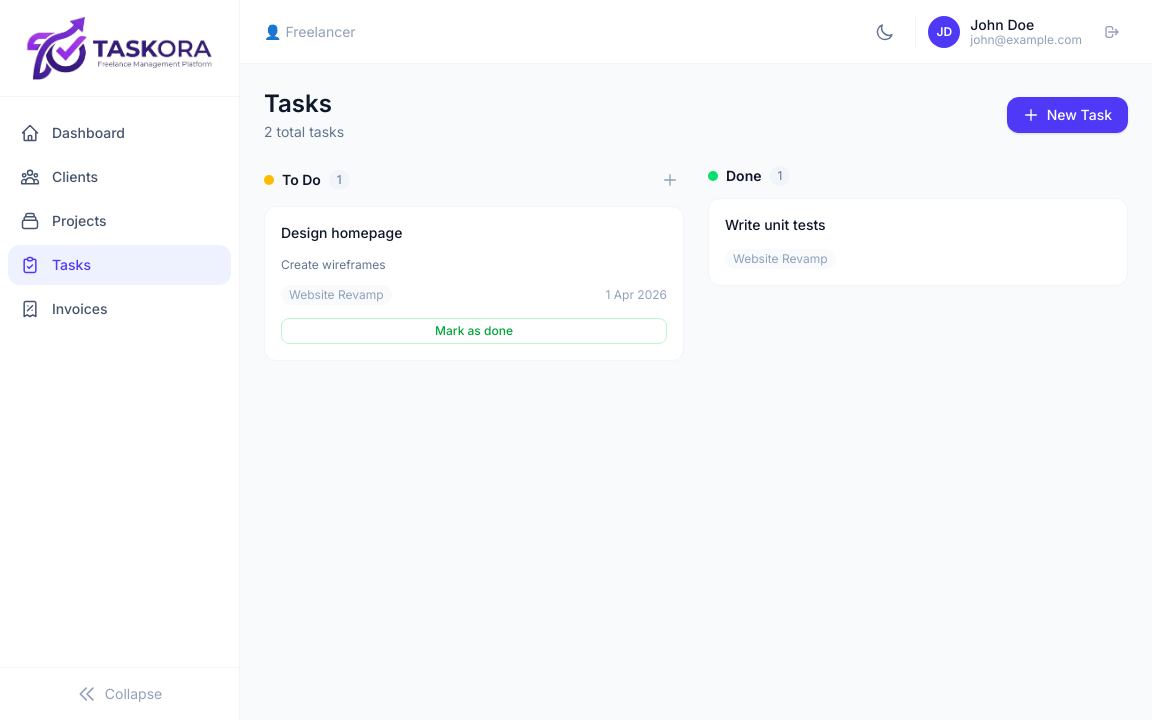
Test: Tasks Page › creates a new task and shows it in the To Do column
Click the button "New Task" at (1068,115), box x1=1007 y1=97 x2=1128 y2=133
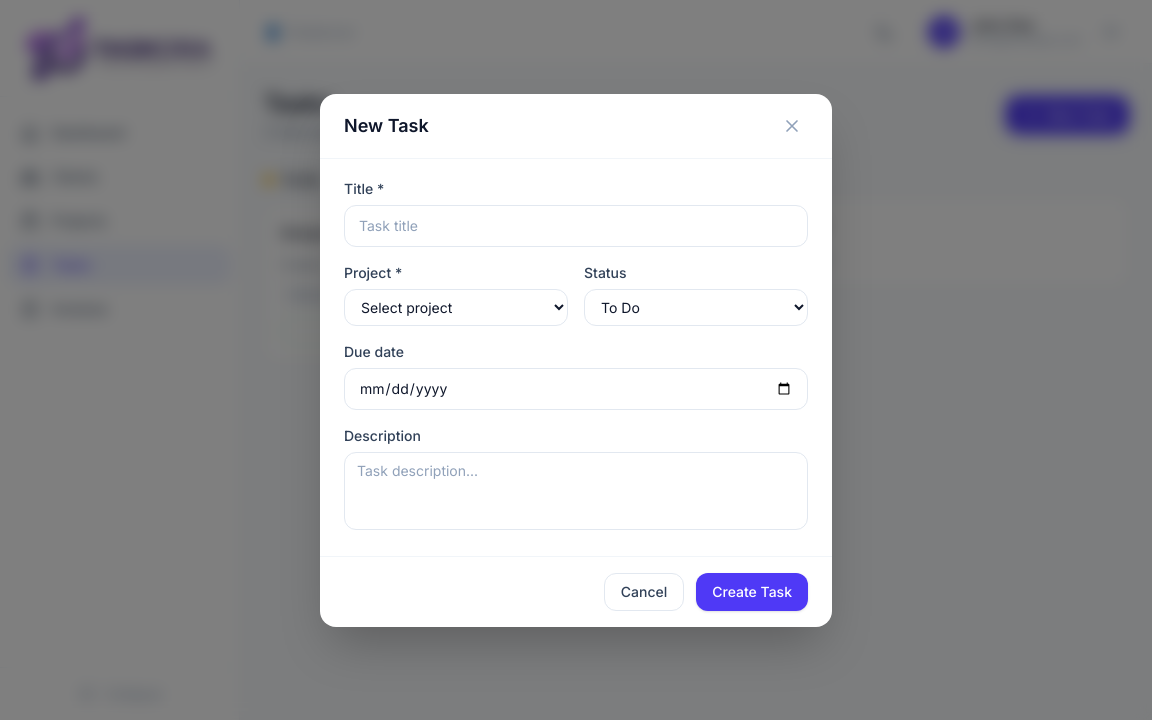
# Fill in title
Type "New cypress task" into the field with placeholder "Task title" at (576,226), box x1=344 y1=205 x2=808 y2=247
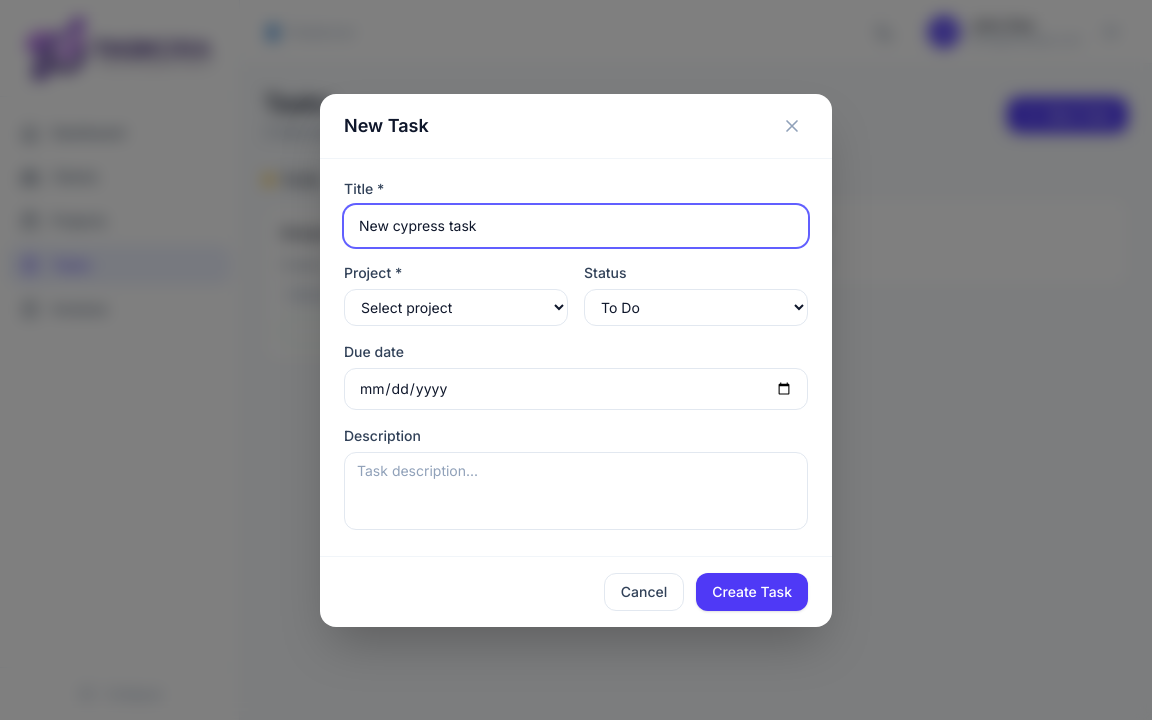
# Select project from dropdown
Select "Website Revamp" in the dropdown below "Project *" at (456,308), box x1=344 y1=289 x2=568 y2=326
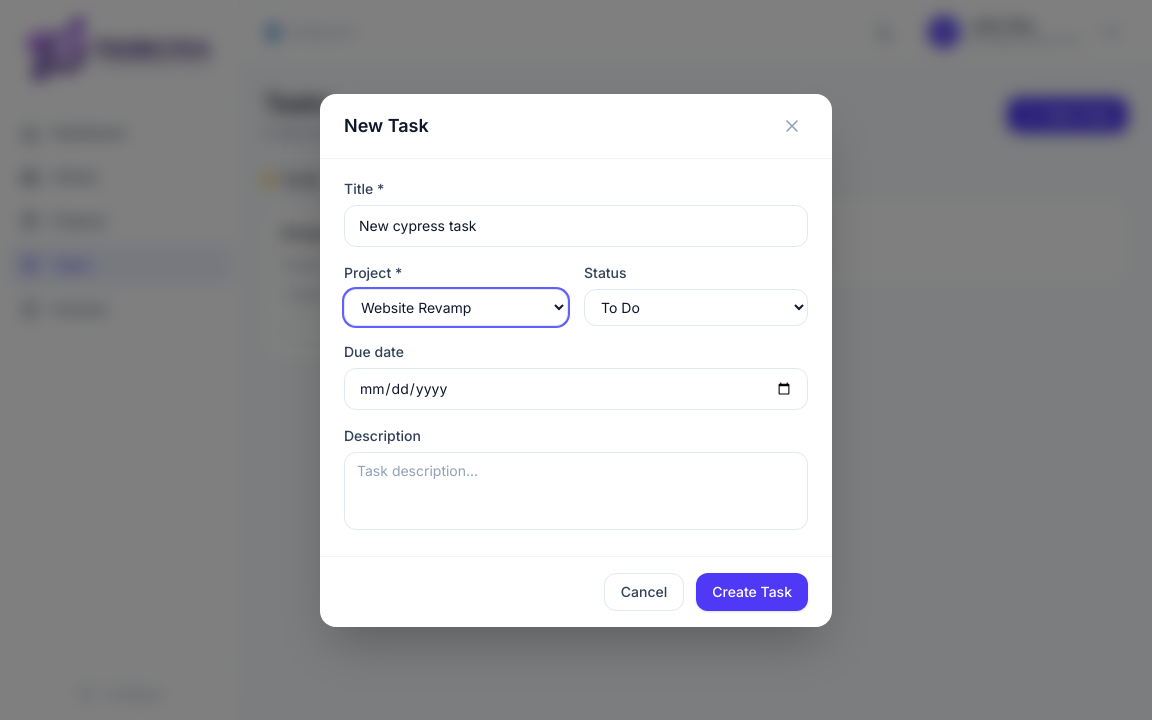
Click the button "Create Task" at (752,592), box x1=696 y1=573 x2=808 y2=611
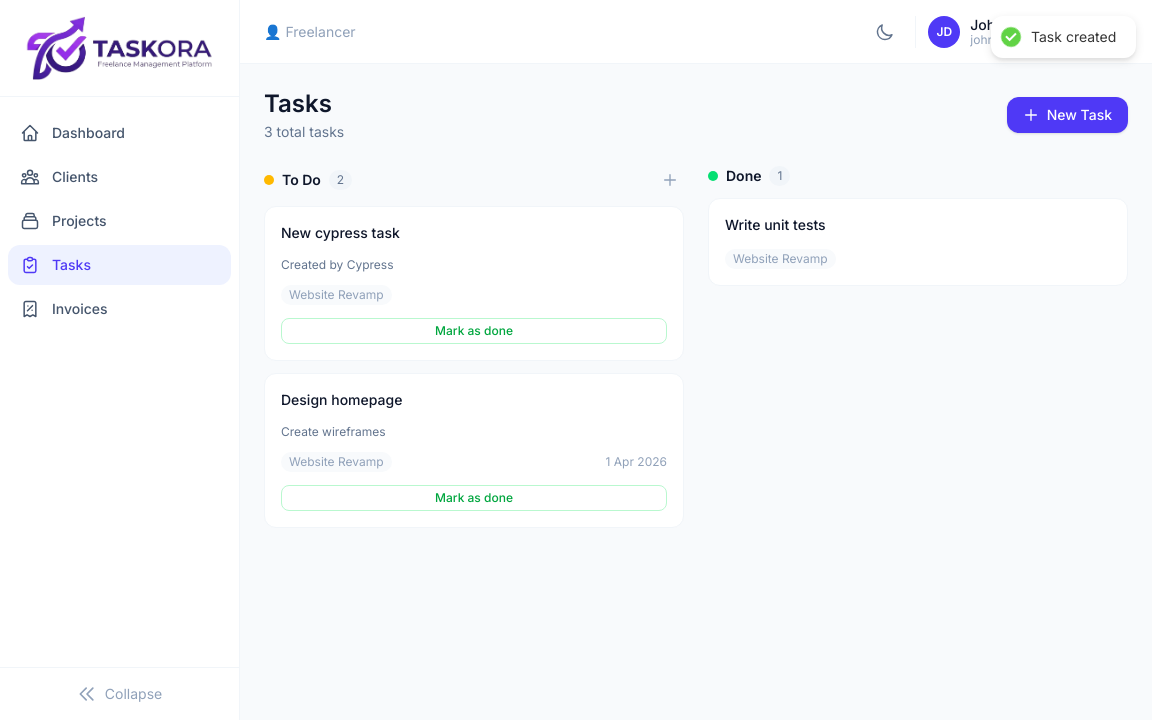
Result: the text "Task created" is shown at x1=1031 y1=28 x2=1116 y2=46
Result: the heading "New cypress task" is shown at x1=281 y1=223 x2=400 y2=242
